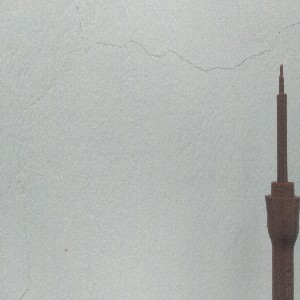solder: (264, 63, 300, 300)
